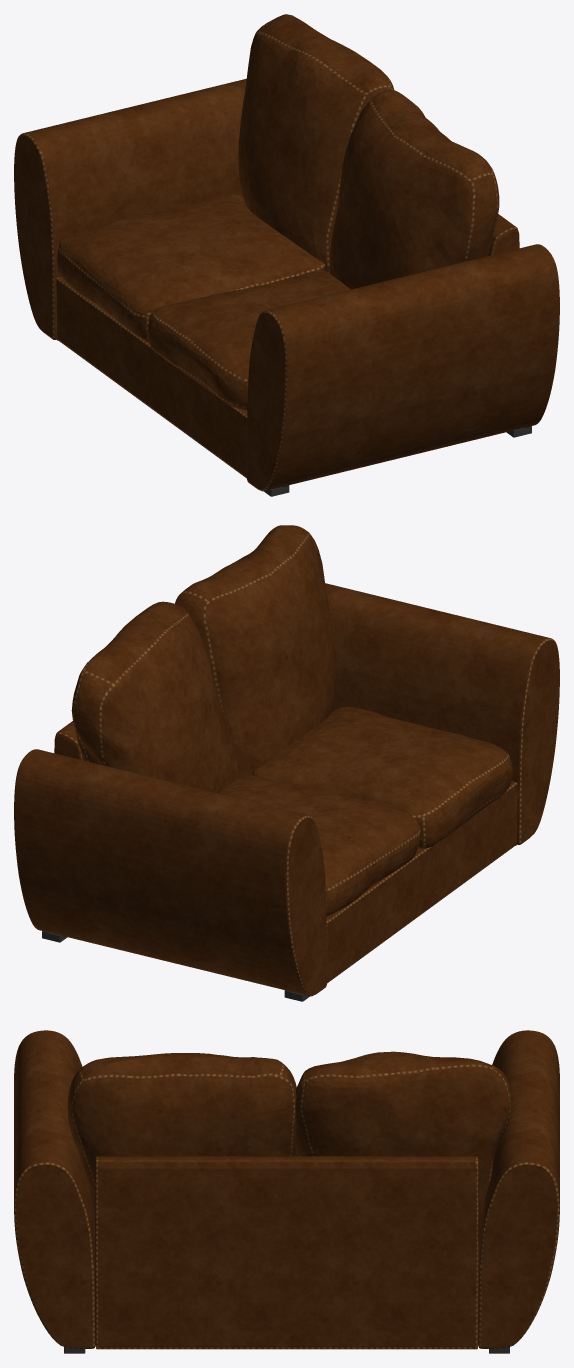
Rendered from 2-seater_sofa (1).glb.
3 renders of one model, top to bottom at view 1: azimuth 30°, elevation 25°; view 2: azimuth 150°, elevation 25°; view 3: azimuth 270°, elevation 25°, orthographic.
Visible parts, largest first — view 1: Armrests_None_0, Back_Pillow.007_None_0, Back_Pillow.006_None_0, Base_Pillow.001_None_0, Base_None_0, Base_Pillow.002_None_0; view 2: Armrests_None_0, Back_Pillow.007_None_0, Back_Pillow.006_None_0, Base_Pillow.002_None_0, Base_None_0, Base_Pillow.001_None_0; view 3: Base_None_0, Armrests_None_0, Back_Pillow.007_None_0, Back_Pillow.006_None_0.
Part boxes in pixels (bbox=[...]): Armrests_None_0: bbox=[14, 78, 559, 491]; Back_Pillow.007_None_0: bbox=[329, 90, 499, 289]; Back_Pillow.006_None_0: bbox=[238, 14, 394, 272]; Base_Pillow.001_None_0: bbox=[56, 194, 325, 341]; Base_None_0: bbox=[56, 214, 519, 478]; Base_Pillow.002_None_0: bbox=[147, 271, 350, 409]; Armrests_None_0: bbox=[14, 583, 559, 996]; Back_Pillow.007_None_0: bbox=[175, 525, 335, 775]; Back_Pillow.006_None_0: bbox=[71, 601, 238, 793]; Base_Pillow.002_None_0: bbox=[251, 707, 512, 848]; Base_None_0: bbox=[54, 721, 517, 983]; Base_Pillow.001_None_0: bbox=[219, 774, 420, 916]; Base_None_0: bbox=[95, 1156, 478, 1349]; Armrests_None_0: bbox=[14, 1030, 559, 1348]; Back_Pillow.007_None_0: bbox=[67, 1053, 296, 1218]; Back_Pillow.006_None_0: bbox=[295, 1051, 511, 1236].
Bounding box in the file's own units: 0.9872 × 0.9168 × 1.65.
1 material, 1 textured.
